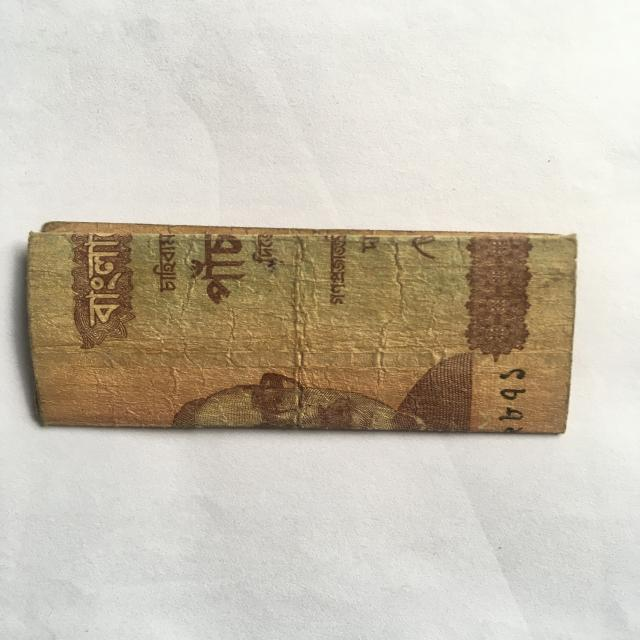Taka: (24, 212, 581, 436)
